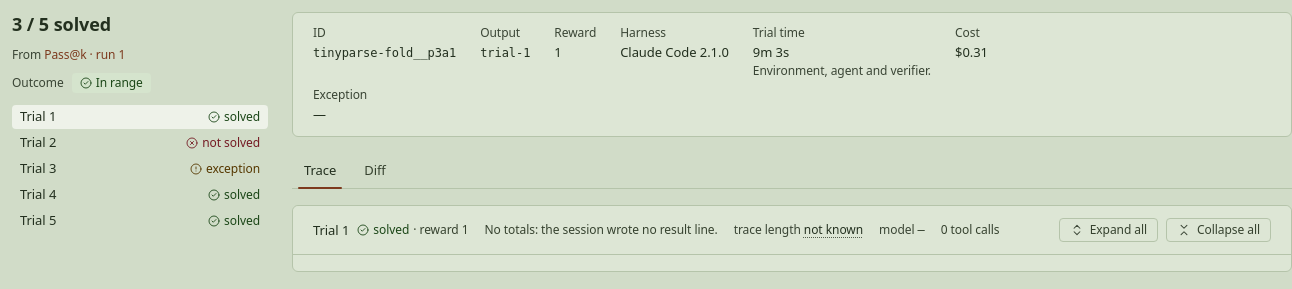
Scenario: the trials view › names a trial's harness and its version from its result.json, and has no Harness where it gives none
Expected: the text "Claude Code 2.1.0" is shown, 620,43 -> 729,62
Trial 2's files give no harness.
Click the button "Trial 2 not solved". click: (140, 143)
box: 12,131 -> 268,155
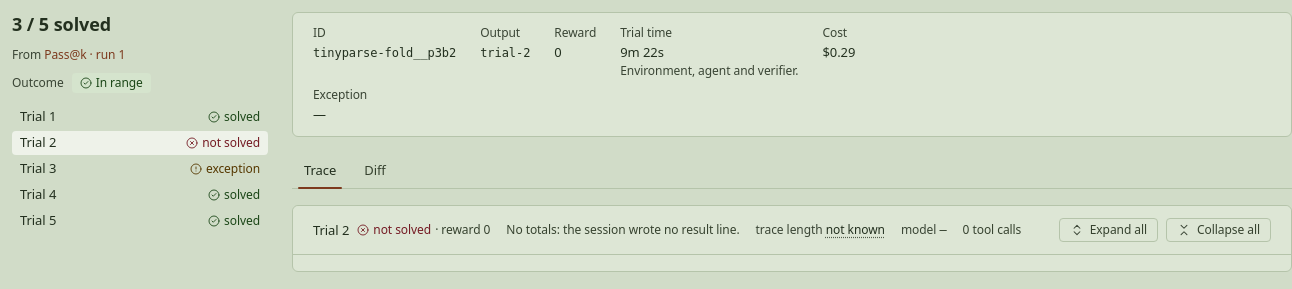
Expected: the text "Harness" is gone
